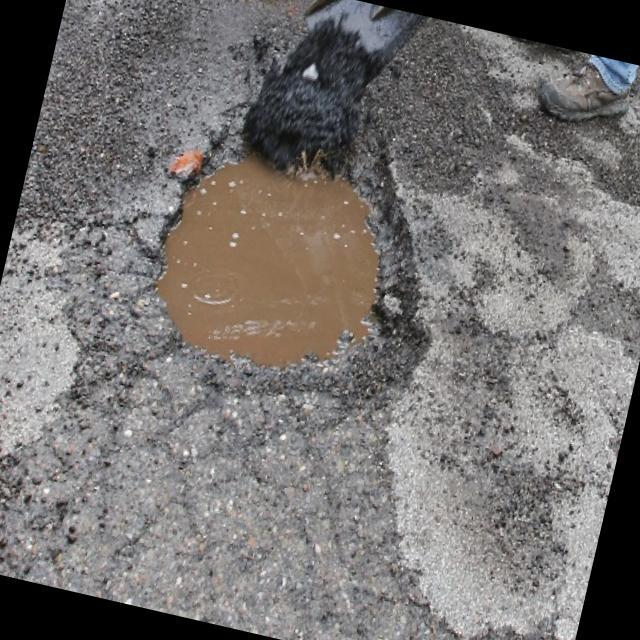Pothole: (111, 56, 462, 427)
